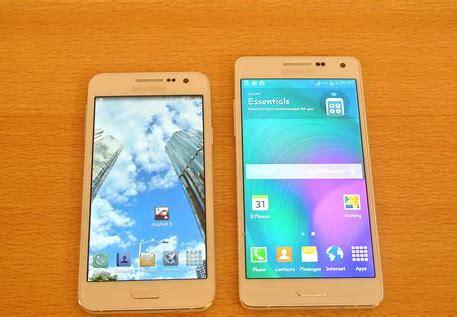Smart Phone: (233, 56, 385, 311)
